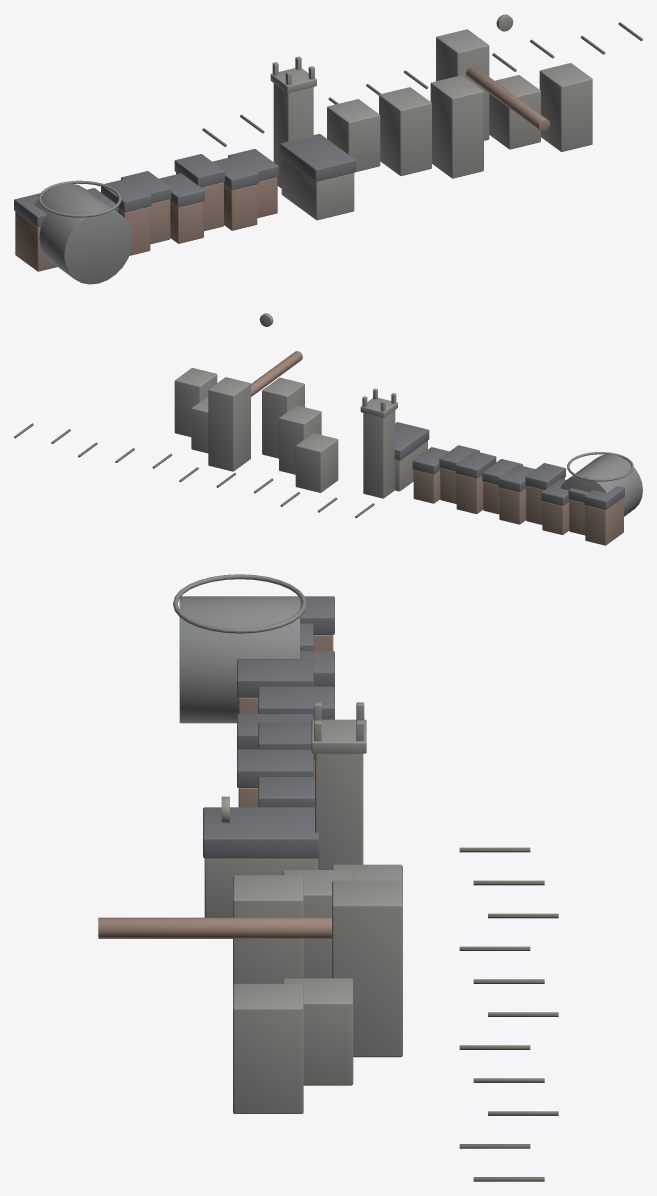
File: distant_town_v1.glb
3 views of the same model, one above another, from view 1: azimuth 30°, elevation 25°; view 2: azimuth 150°, elevation 25°; view 3: azimuth 270°, elevation 25° (orthographic). The views are drawn at different scales.
Visible parts, largest first — view 1: DistantTown; view 2: DistantTown; view 3: DistantTown.
Part boxes in pixels (x1,y1,x2,y2): DistantTown: (14,14,642,284); DistantTown: (14,313,642,545); DistantTown: (98,574,558,1181).
Size of the model in its own units: 176 by 38.8 by 65.
